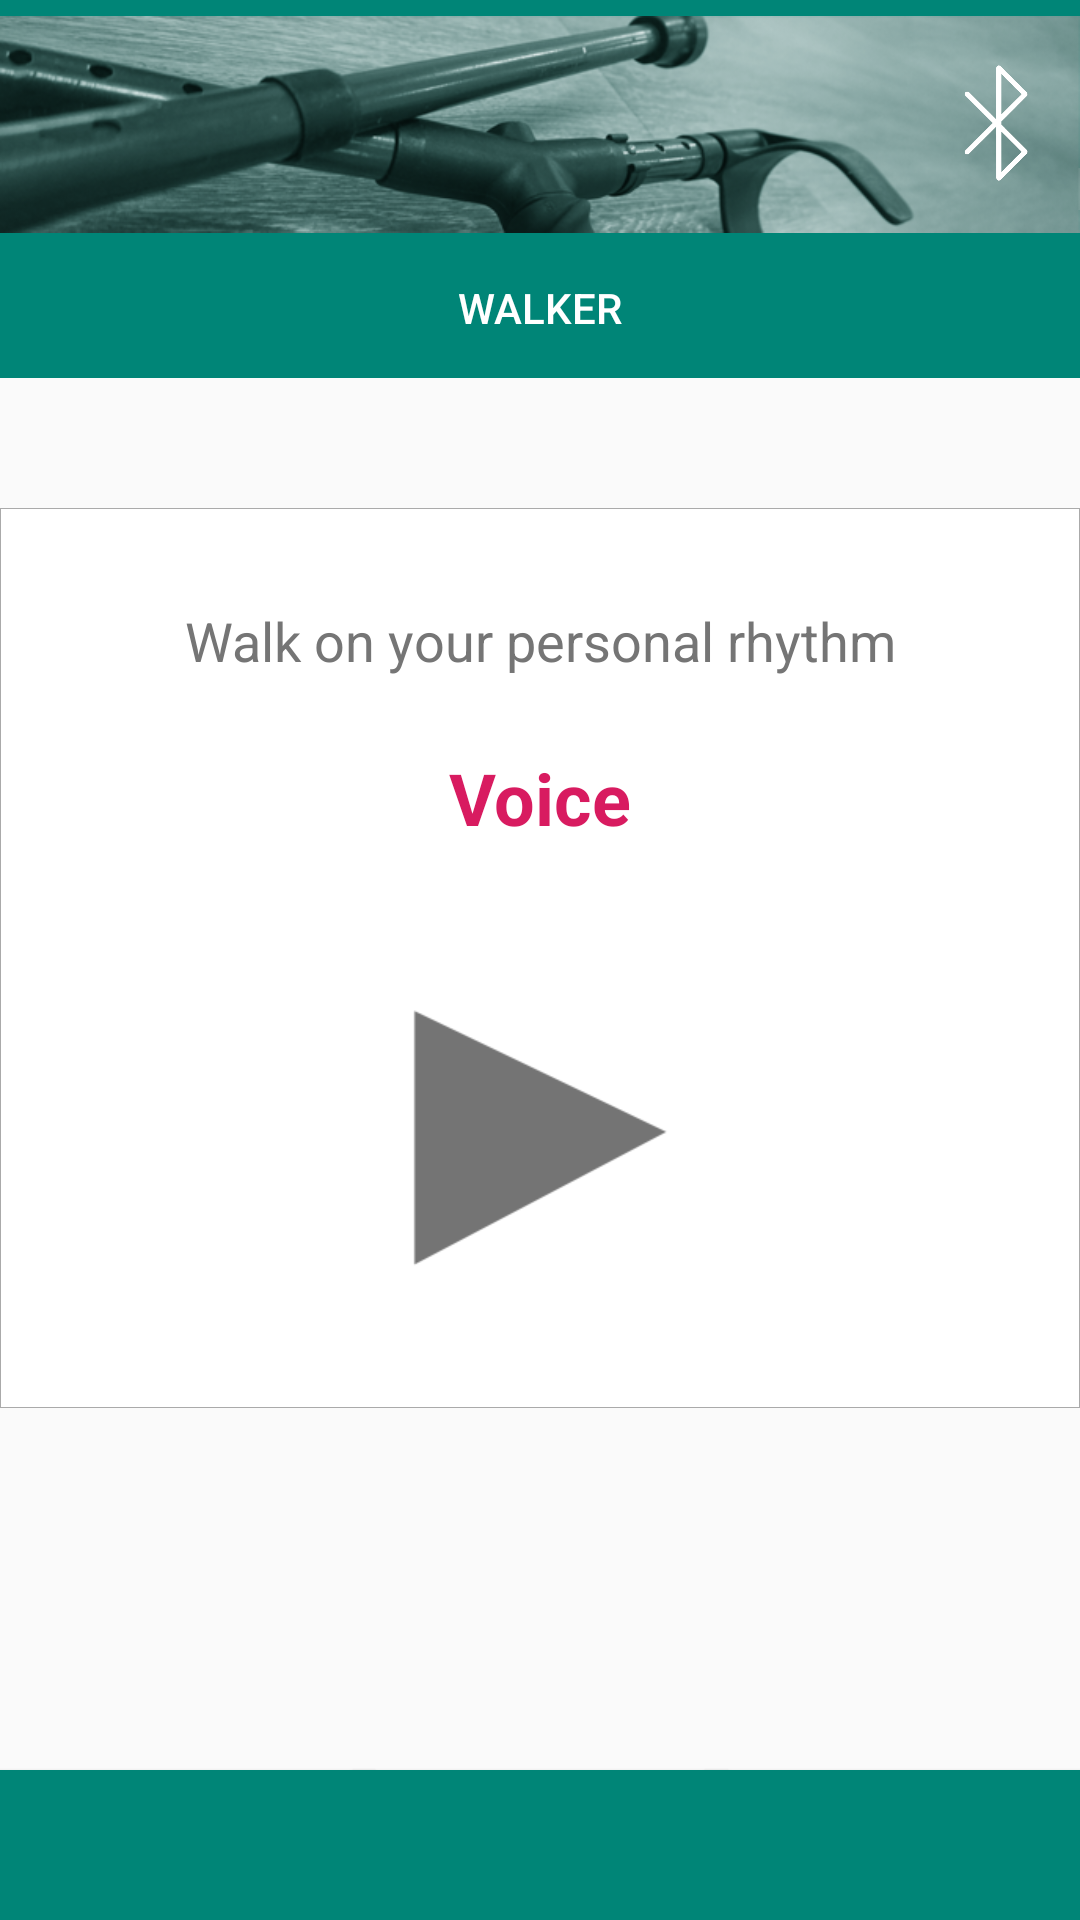

Icons on this 1080*1920 Android screen, each with the point to tap as (x,y):
toggle start stop: (540,1137)
